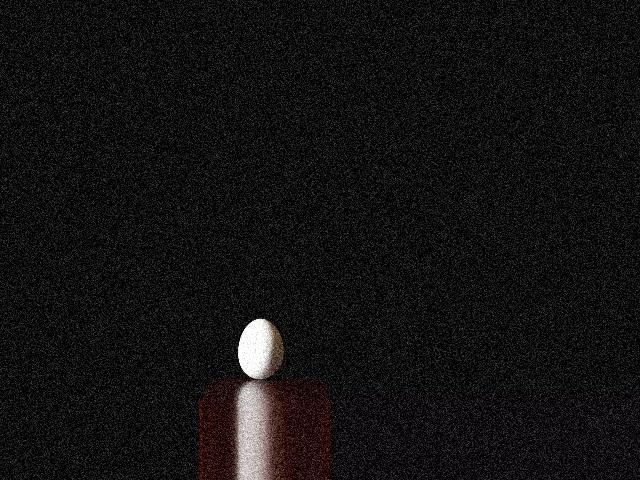egg: (237, 319, 282, 380)
